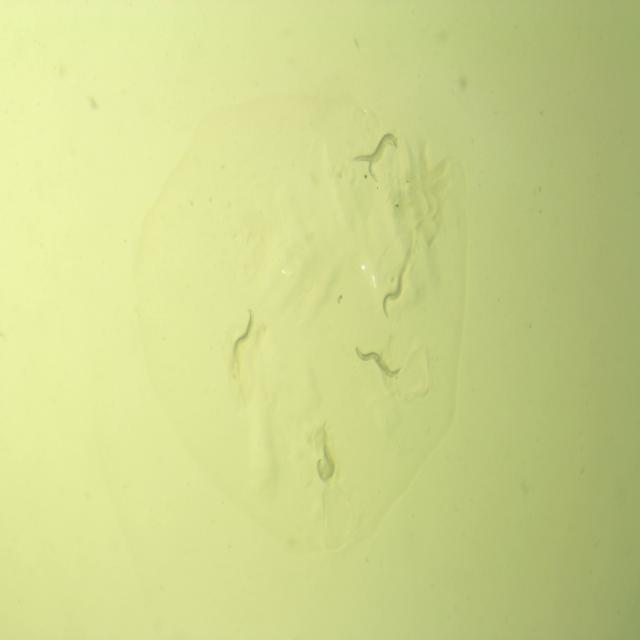worm: (352, 342, 405, 383), (348, 130, 400, 166), (365, 134, 400, 185), (313, 419, 338, 486), (228, 306, 256, 358), (378, 274, 406, 322)
